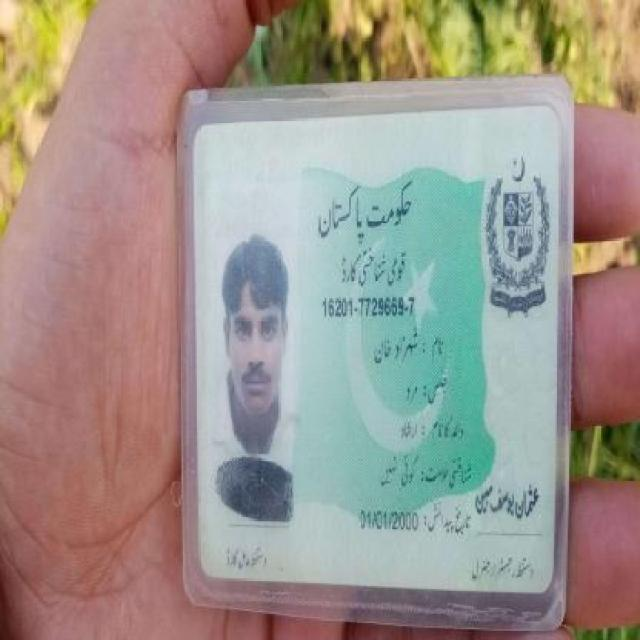Front: (178, 99, 558, 603)
